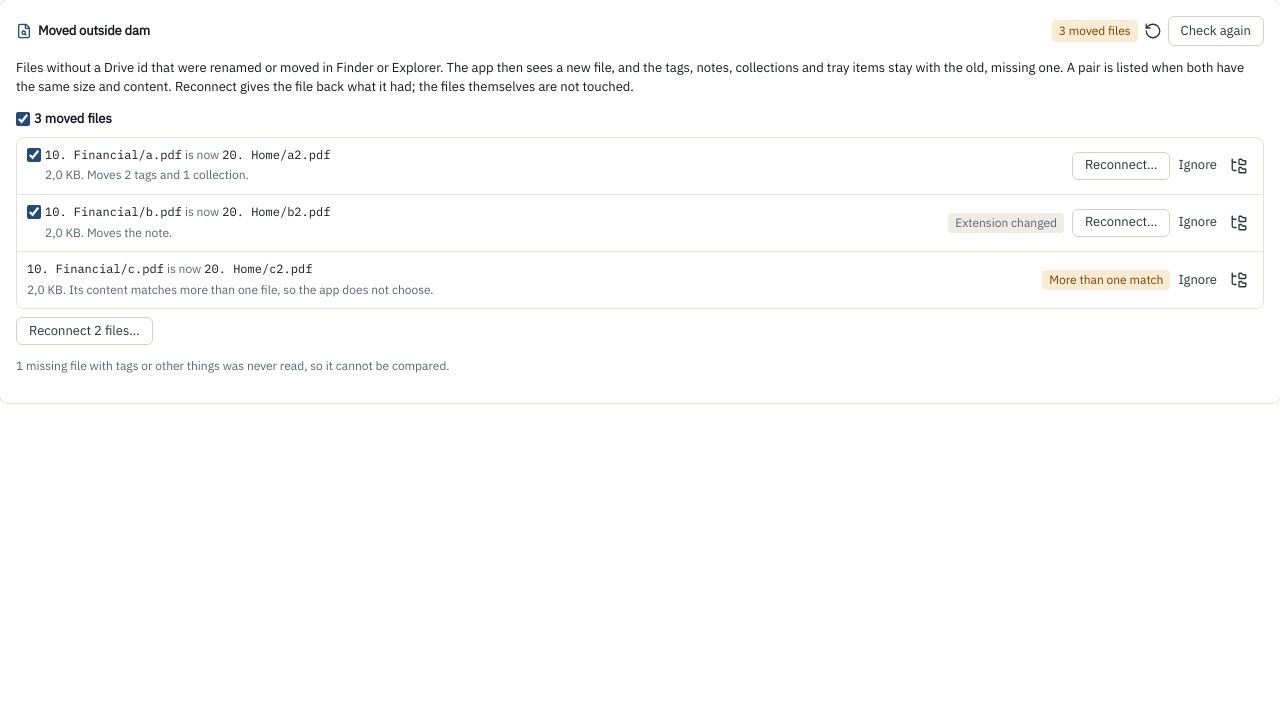
Moved outside dam › reconnects one pair from its row, and Cancel changes nothing
What coordinates should you click on to do the following:
click the button "Reconnect…" in the row of "10. Financial/a.pdf"
I would click on:
 (1121, 166)
Its box is [1072, 152, 1170, 180].
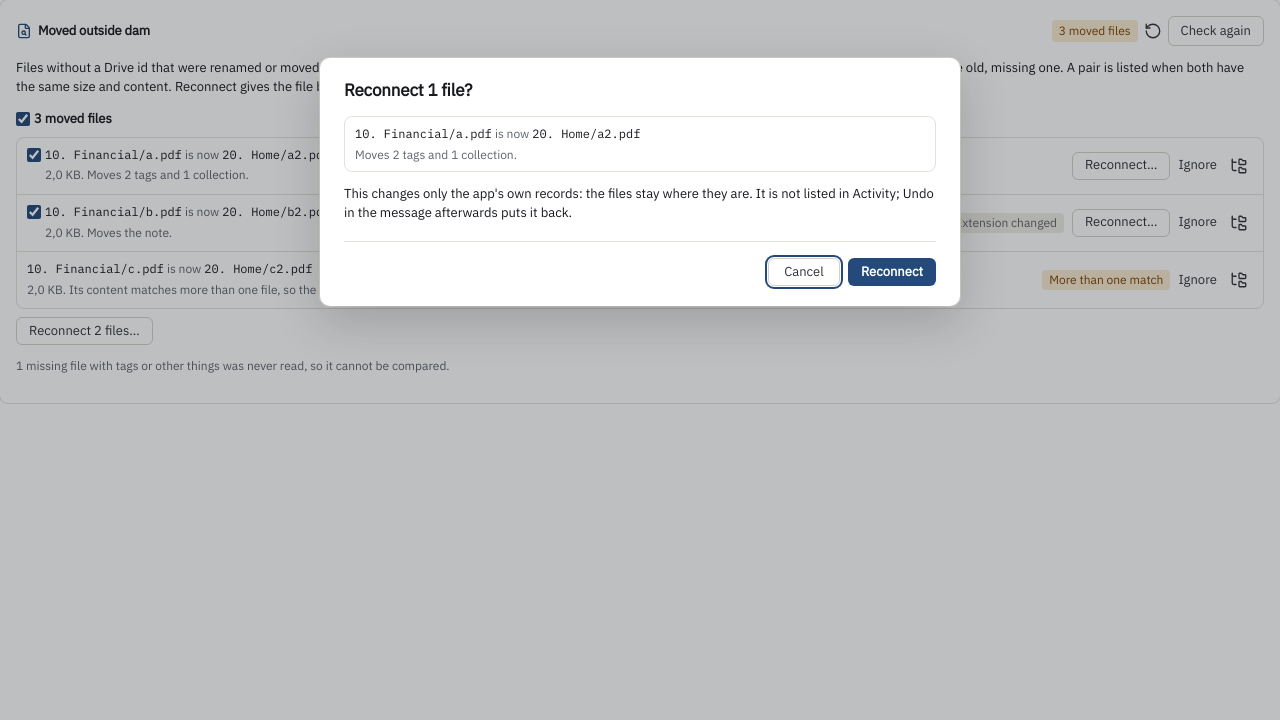
What coordinates should you click on to do the following:
click the button "Cancel"
I would click on:
 (804, 272)
Its box is [768, 258, 840, 286].
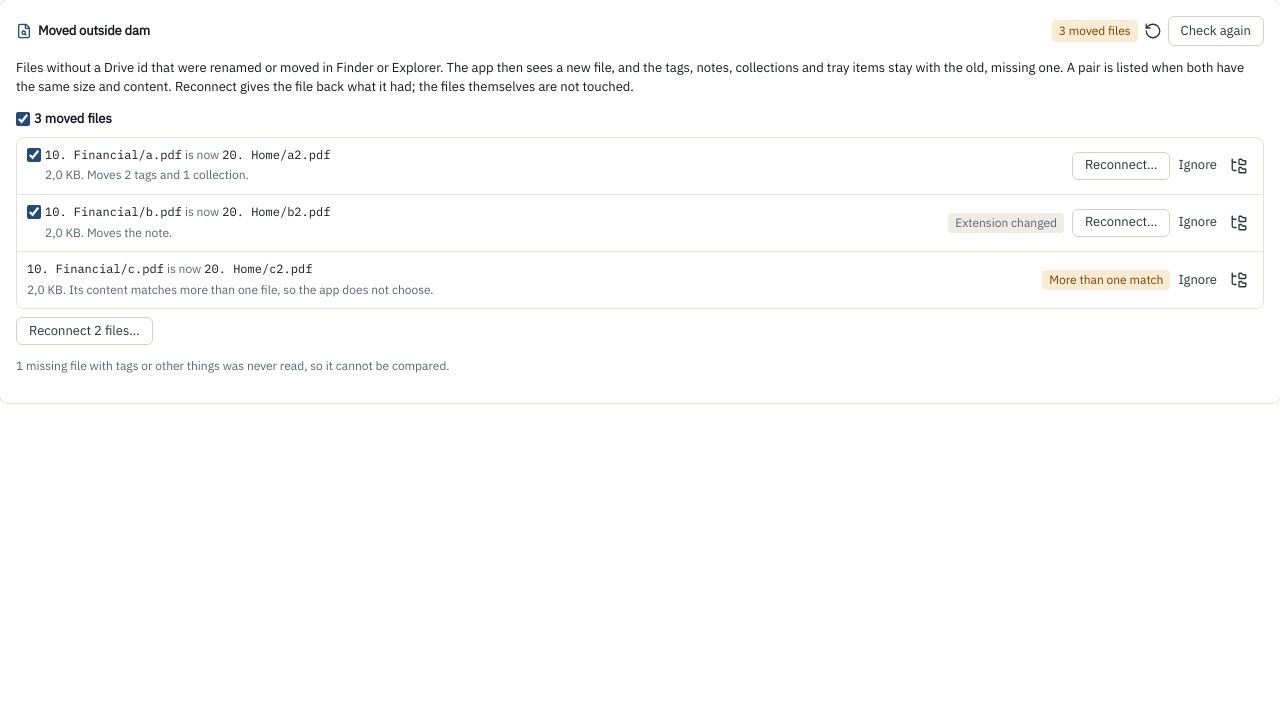
Check: the dialog is gone
